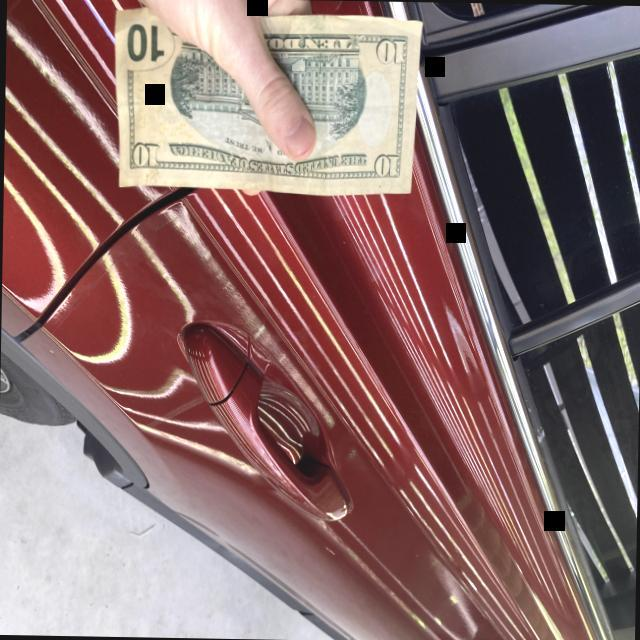ten: (114, 8, 422, 195)
